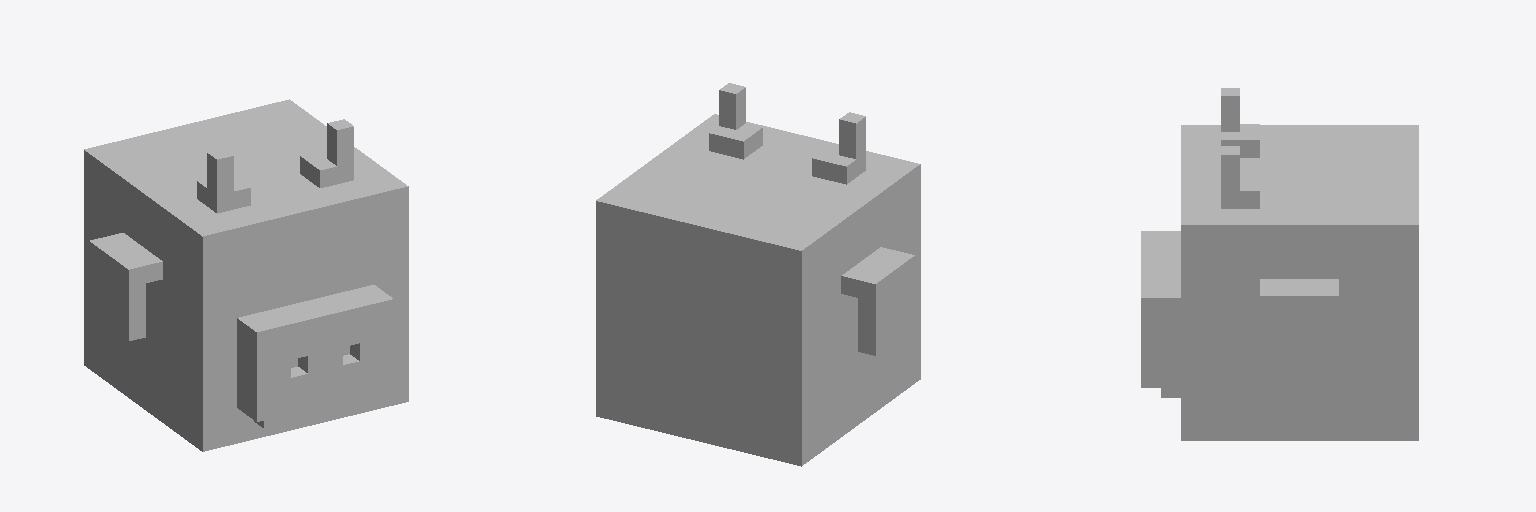
The model's file is cow.obj.
3 renders of one model, left to right at view 1: azimuth 30°, elevation 25°; view 2: azimuth 150°, elevation 25°; view 3: azimuth 270°, elevation 25°, orthographic.
Parts seen in each view (by area): view 1: cow; view 2: cow; view 3: cow.
Boxes of the visible parts, x1=… form: cow: x1=84, y1=99, x2=408, y2=451; cow: x1=596, y1=83, x2=920, y2=466; cow: x1=1141, y1=88, x2=1418, y2=440.
Size of the model in its own units: 16 by 15 by 14.